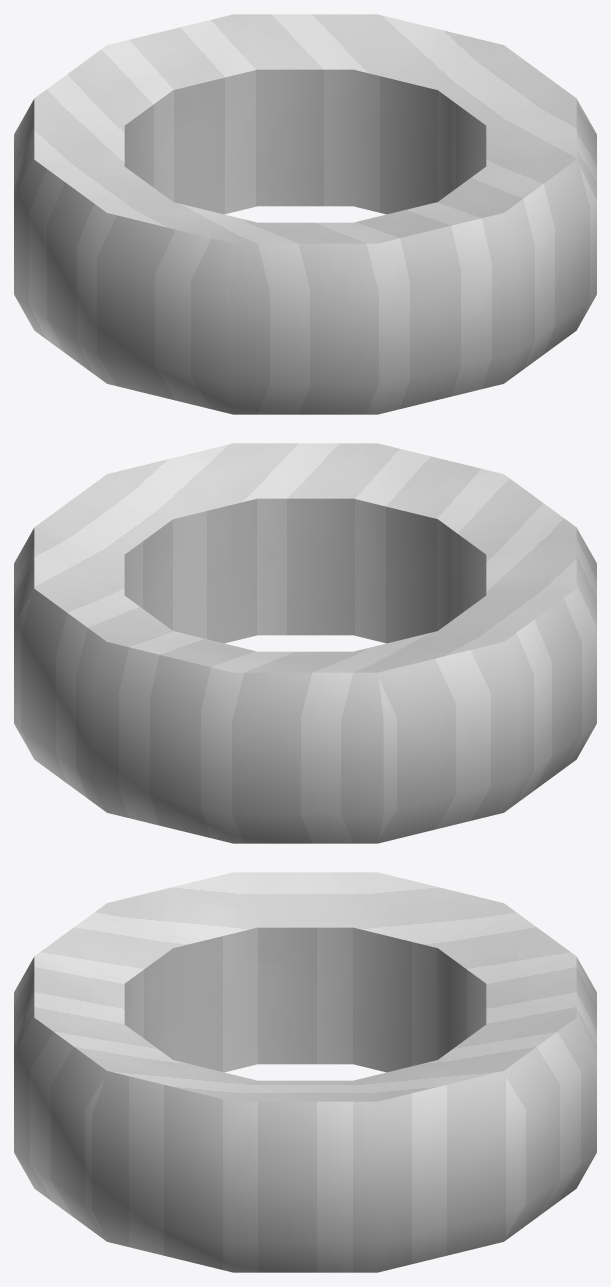
Rendered from pneu_velho.glb.
3 views of the same model, one above another, from view 1: azimuth 30°, elevation 25°; view 2: azimuth 150°, elevation 25°; view 3: azimuth 270°, elevation 25° (orthographic).
Visible parts, largest first — view 1: Inteiro; view 2: Inteiro; view 3: Inteiro.
Part boxes in pixels (bbox=[...]): Inteiro: bbox=[14, 14, 596, 414]; Inteiro: bbox=[14, 443, 596, 843]; Inteiro: bbox=[14, 872, 596, 1272].
Size of the model in its own units: 0.6182 by 0.2 by 0.6182.
Materials: 1 (1 with a texture image).
